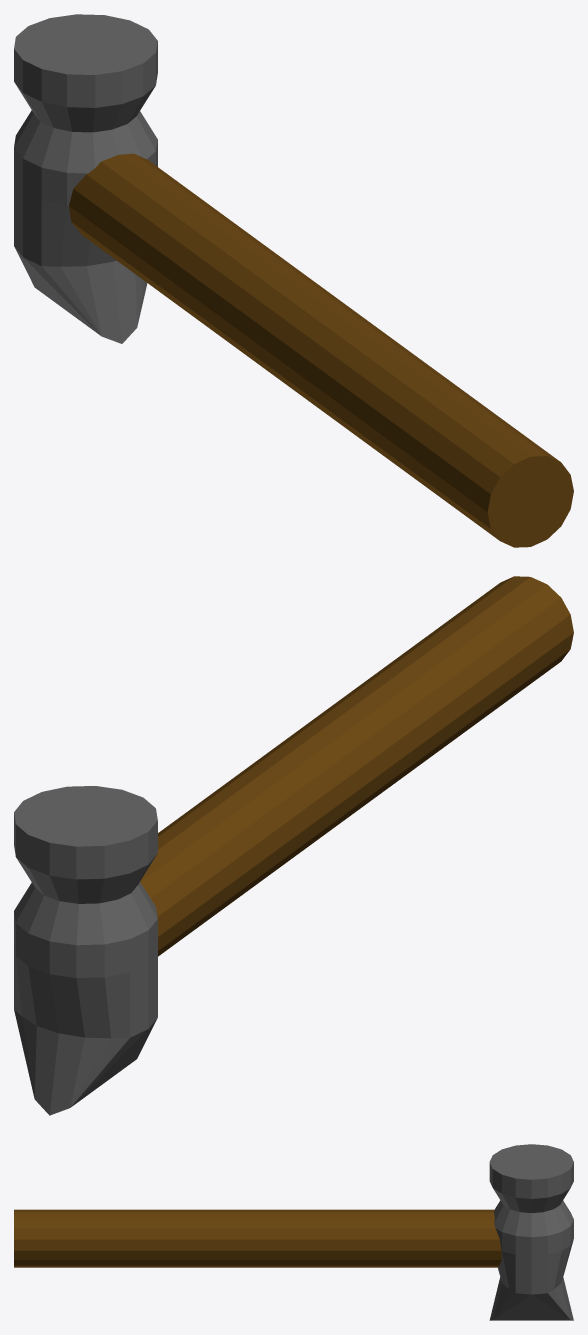
Rendered from Hammer.fbx.
3 renders of one model, top to bottom at view 1: azimuth 30°, elevation 25°; view 2: azimuth 150°, elevation 25°; view 3: azimuth 270°, elevation 25°, orthographic. The views are drawn at different scales.
Parts seen in each view (by area): view 1: Cylinder.001, Cylinder; view 2: Cylinder.001, Cylinder; view 3: Cylinder.001, Cylinder.
Part boxes in pixels (x1,y1,x2,y2): Cylinder.001: (69,153,573,547); Cylinder: (14,14,157,343); Cylinder.001: (140,576,573,956); Cylinder: (14,786,157,1115); Cylinder.001: (14,1209,501,1267); Cylinder: (489,1144,573,1320).
Bounding box in the file's own units: 200 × 415 × 1327.
